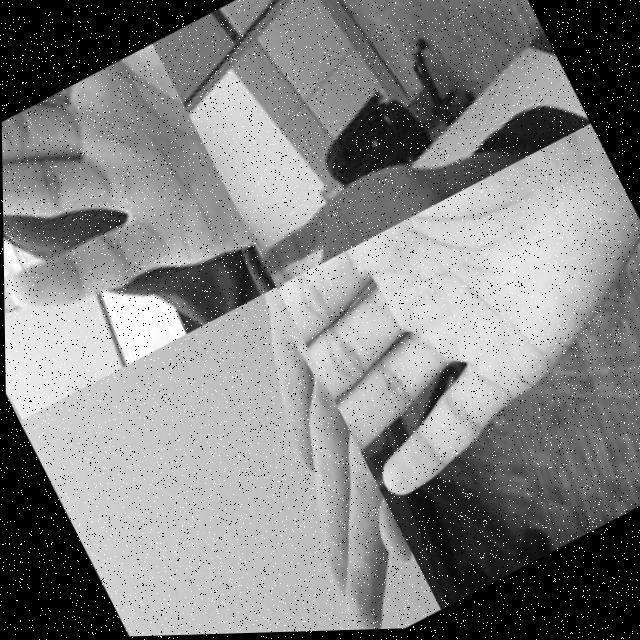no-gloves: (273, 124, 640, 509), (0, 40, 256, 379), (198, 283, 438, 635), (248, 150, 440, 288)
